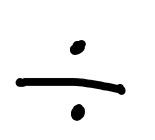div: (16, 40, 126, 121)
